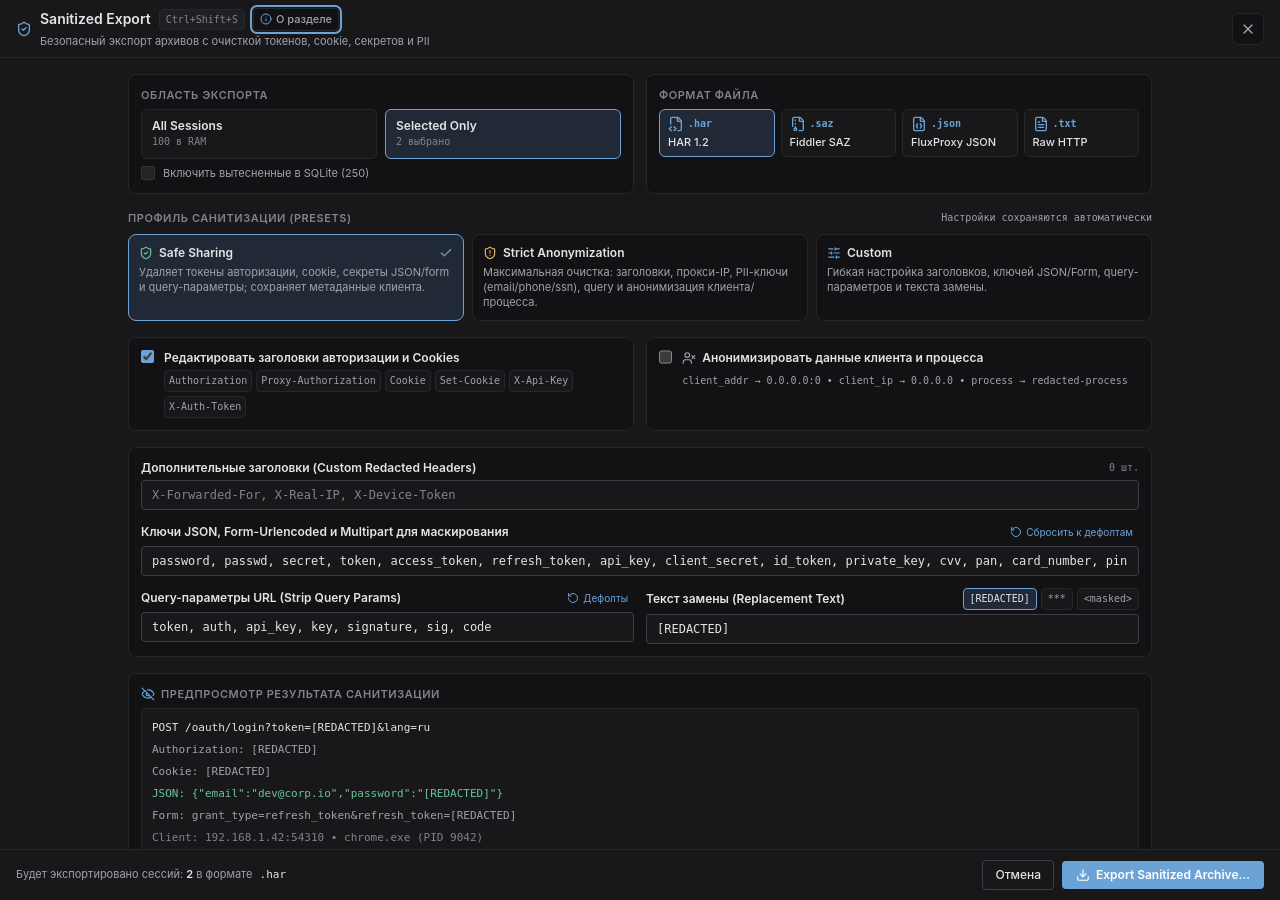
Test case: SanitizedExportModal includeEvictedSqlite option [PERF-03] › defaults includeEvictedSqlite to false and forwards true only when checked for All Sessions
Later steps or results of the test are not shown.
Check: the checkbox labelled "Включить вытесненные в SQLite (250)" is not checked, box x1=141 y1=166 x2=155 y2=180
Check: the checkbox labelled "Включить вытесненные в SQLite (250)" is disabled, box x1=141 y1=166 x2=155 y2=180
Click the button "All Sessions 100 в RAM". click: [259, 134]
box: x1=141 y1=109 x2=377 y2=159
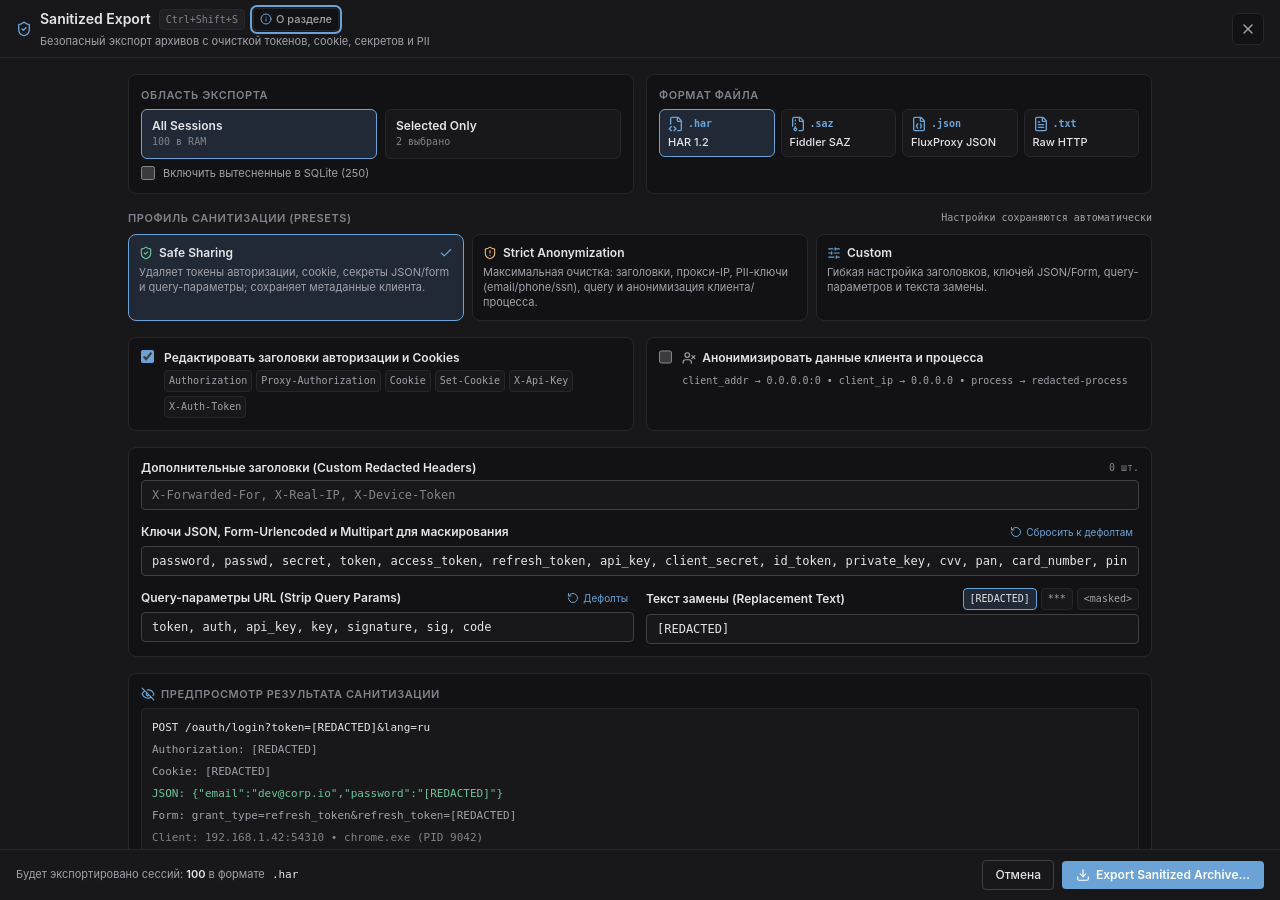
Check: the checkbox labelled "Включить вытесненные в SQLite (250)" is not checked, box x1=141 y1=166 x2=155 y2=180
Check: the checkbox labelled "Включить вытесненные в SQLite (250)" is enabled, box x1=141 y1=166 x2=155 y2=180
Click the button "Export Sanitized Archive…". click: [1163, 875]
box: x1=1062 y1=861 x2=1264 y2=889
Click the button "Selected Only 2 выбрано". click: [503, 134]
box: x1=385 y1=109 x2=621 y2=159
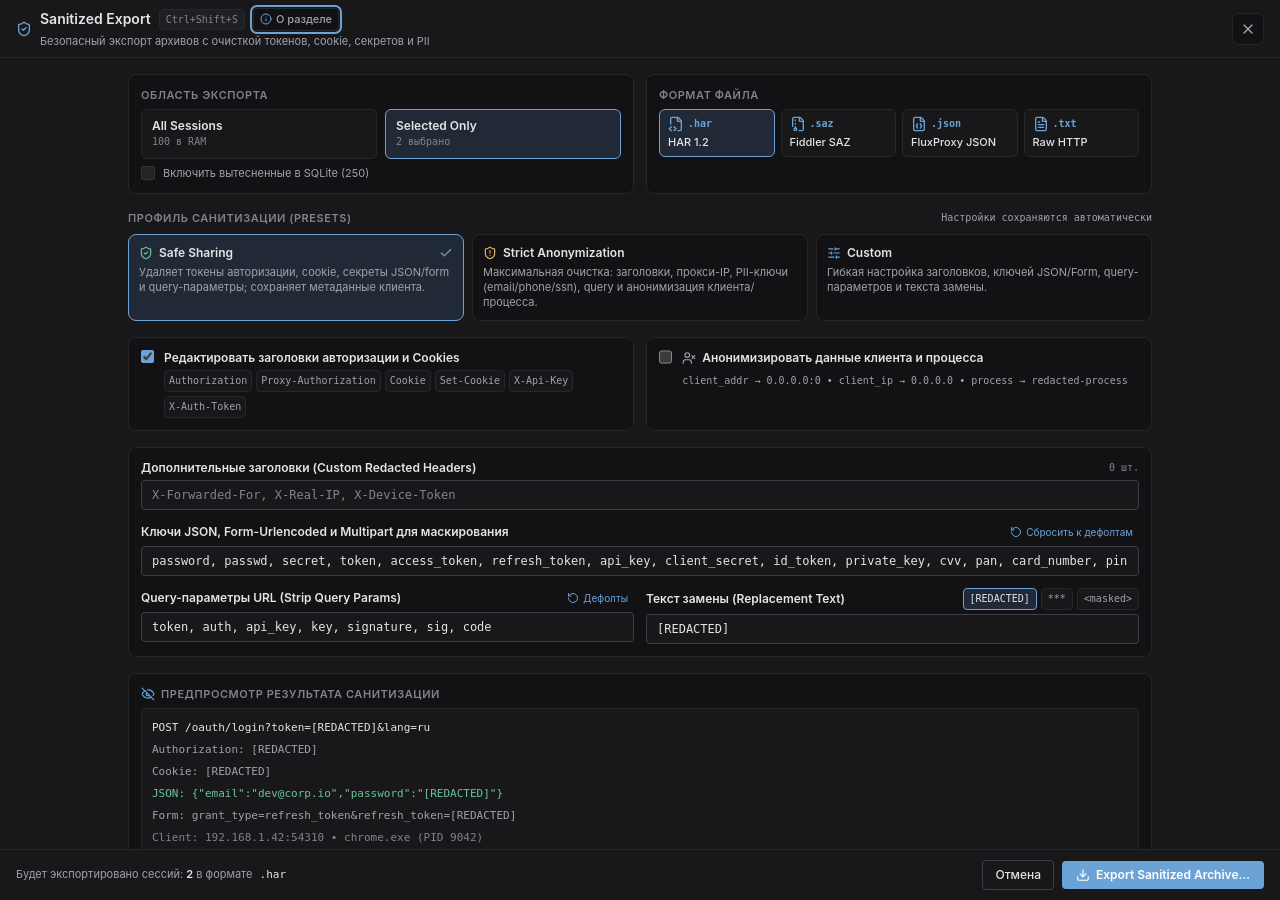
Check: the checkbox labelled "Включить вытесненные в SQLite (250)" is disabled, box x1=141 y1=166 x2=155 y2=180
Click the button "All Sessions 100 в RAM". click: [259, 134]
box: x1=141 y1=109 x2=377 y2=159
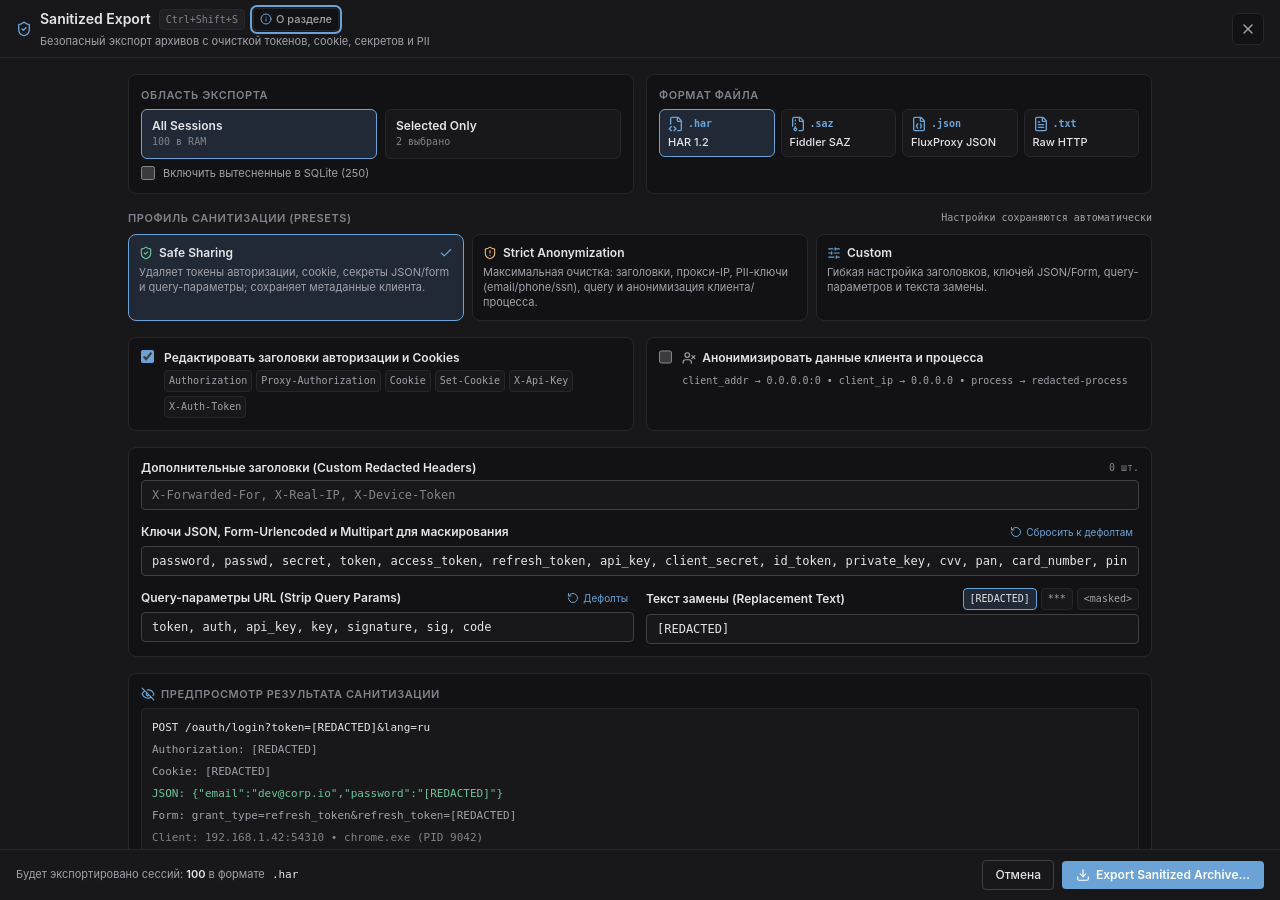
Check: the checkbox labelled "Включить вытесненные в SQLite (250)" is enabled
Note: Checking the SQLite archive option updates count & forwards true
Click the checkbox labelled "Включить вытесненные в SQLite (250)". click: [148, 173]
box: x1=141 y1=166 x2=155 y2=180
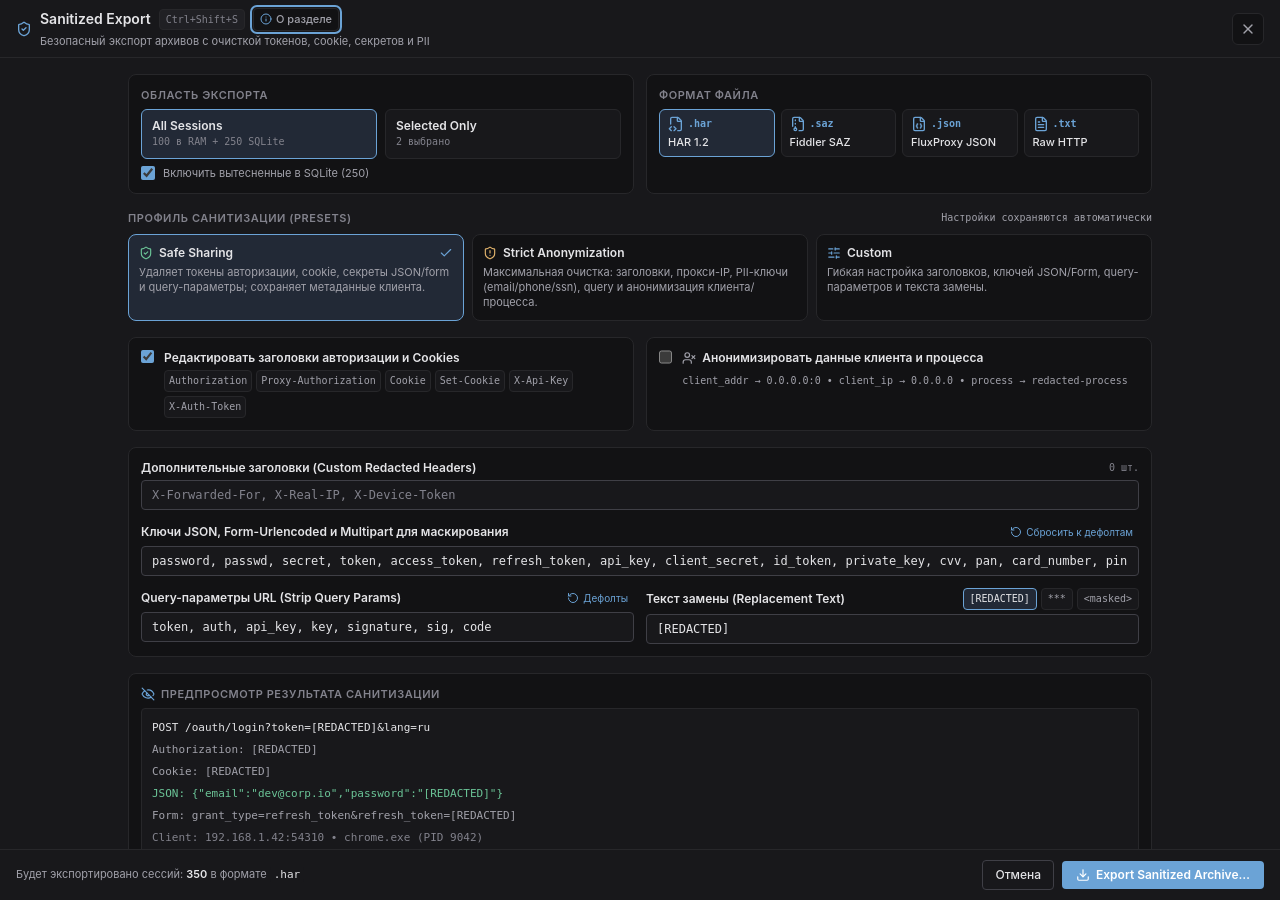
Check: the checkbox labelled "Включить вытесненные в SQLite (250)" is checked, box x1=141 y1=166 x2=155 y2=180
Check: the text "350" is shown, box x1=186 y1=867 x2=207 y2=881
